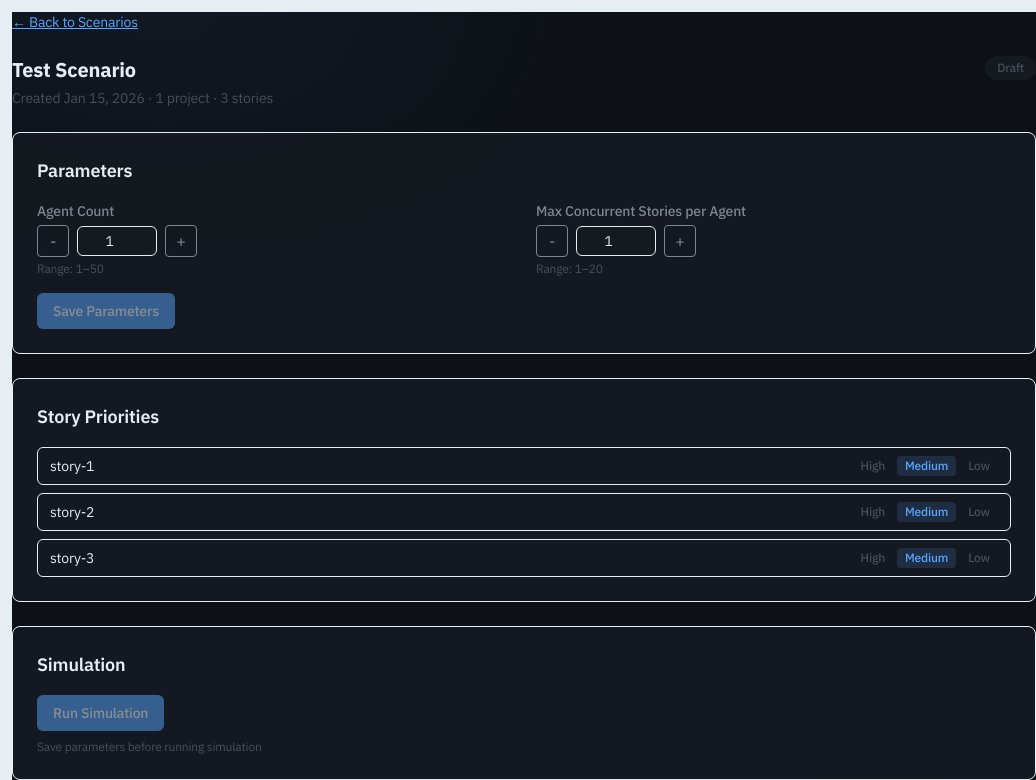
Test: ScenarioDetail › shows error on API failure
// Make a change
Click the button "+" below "Agent Count". click: (181, 241)
box: [165,225,197,257]
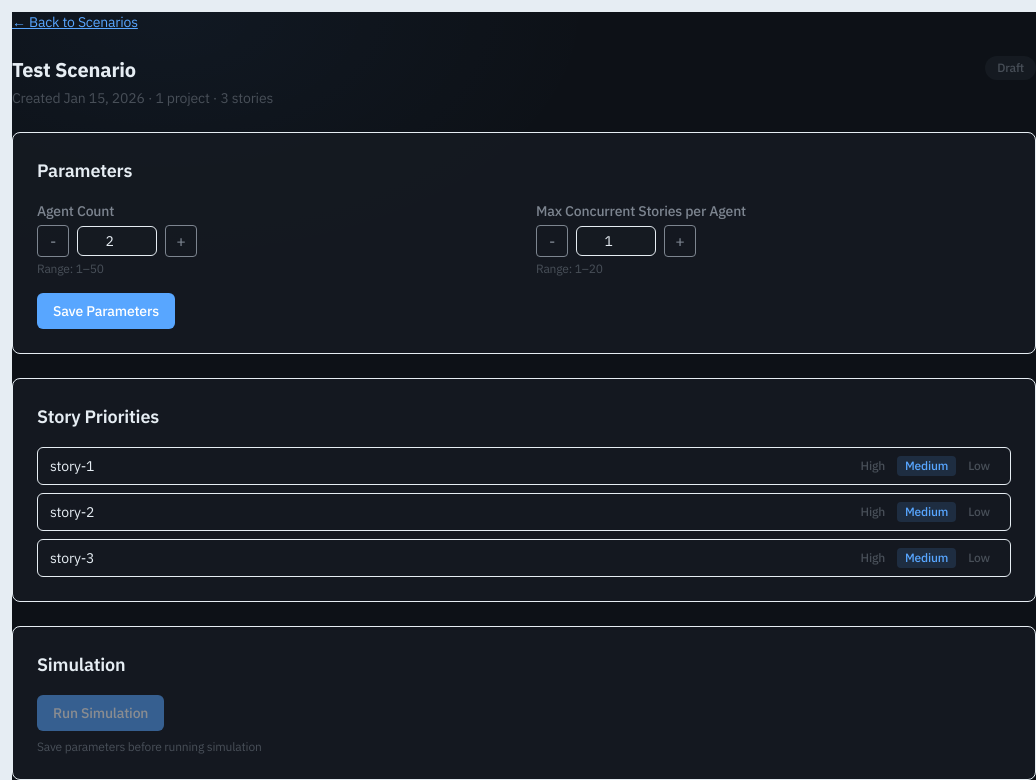
Click the button "Save Parameters". click: (106, 311)
box: [37,293,175,329]
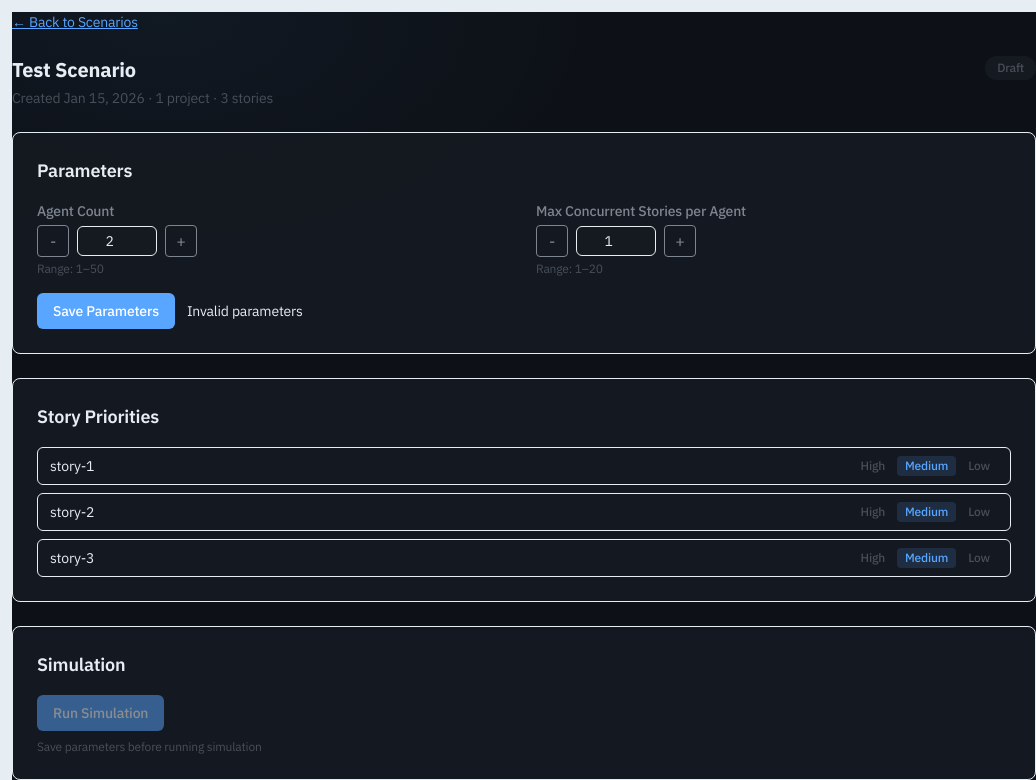
Result: the text "Invalid parameters" is shown at [187,301,303,321]
